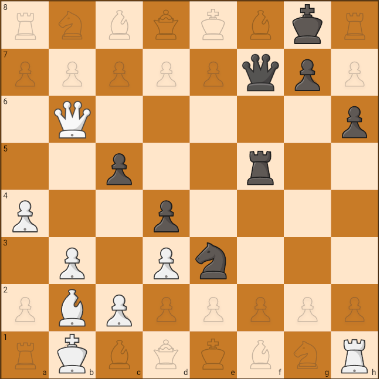bk: (286, 2, 328, 46)
bn: (193, 241, 235, 282)
bp: (291, 52, 326, 93), (102, 149, 137, 187), (338, 100, 371, 139), (152, 196, 183, 235)
bq: (241, 51, 281, 95)
br: (239, 145, 281, 188)
wb: (53, 287, 94, 327)
wk: (53, 332, 92, 378)
wp: (146, 242, 183, 282), (102, 290, 138, 331), (6, 197, 43, 234), (54, 245, 89, 282)
wq: (54, 98, 92, 141)
wr: (332, 331, 376, 377)
